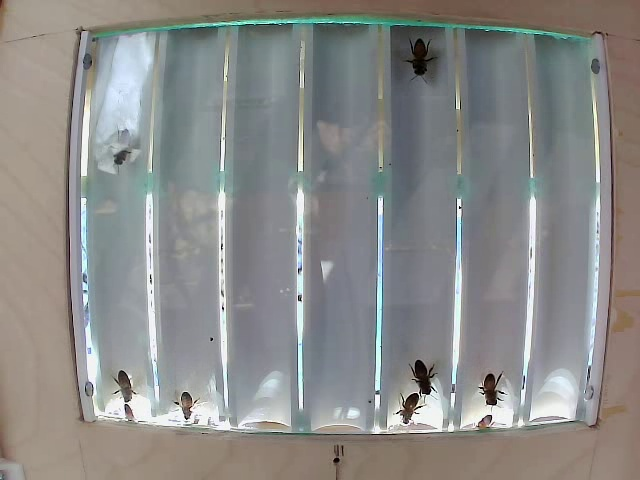bee: (399, 23, 438, 91), (404, 355, 441, 405), (389, 386, 427, 422), (473, 365, 498, 408)
